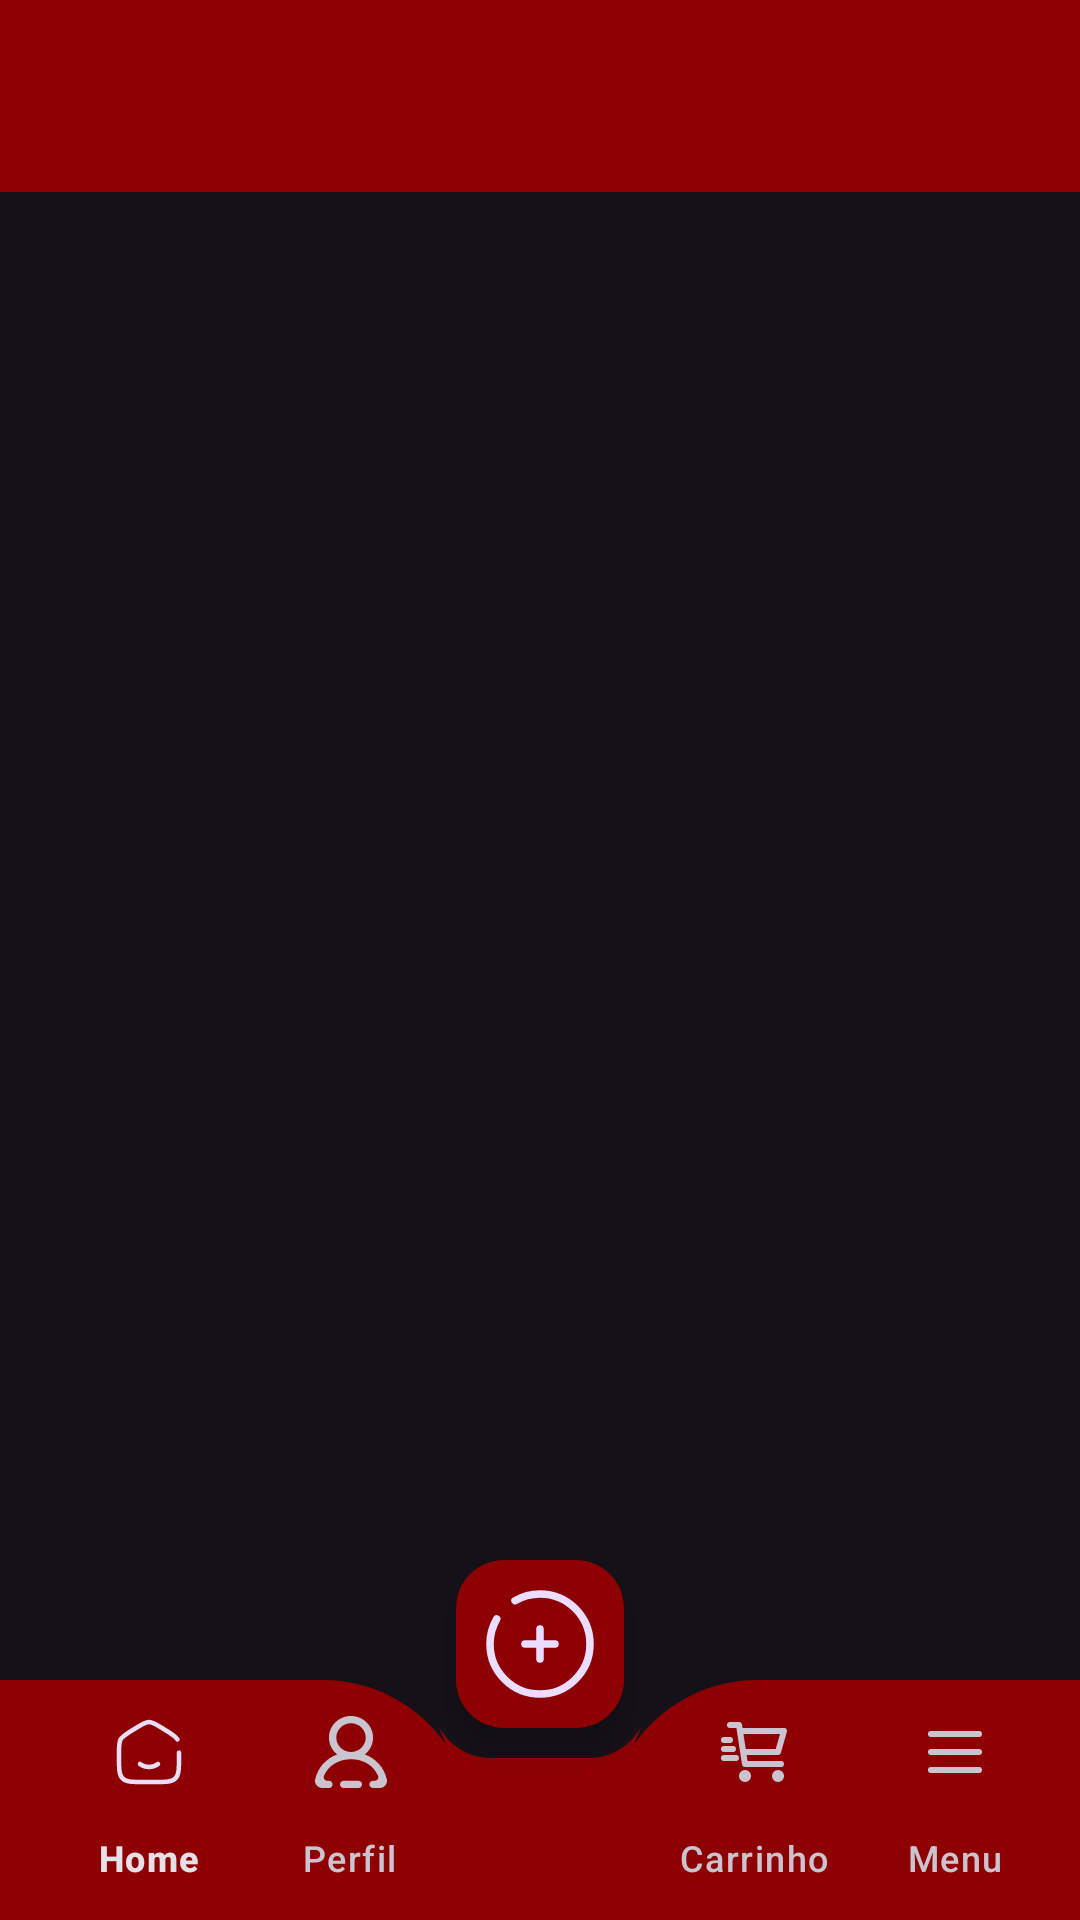

Screen size 1080x1920. Icon name, then its center in pixels as point (x, y):
Adicionar: point (540, 1680)
